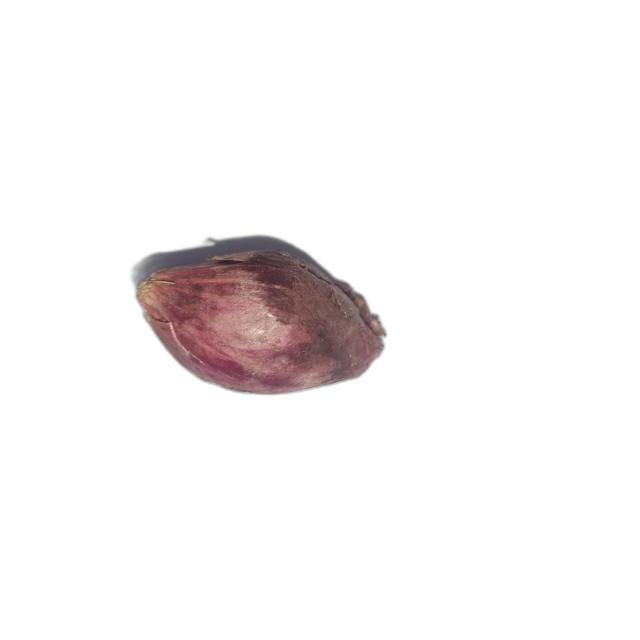onion: (136, 251, 386, 394)
